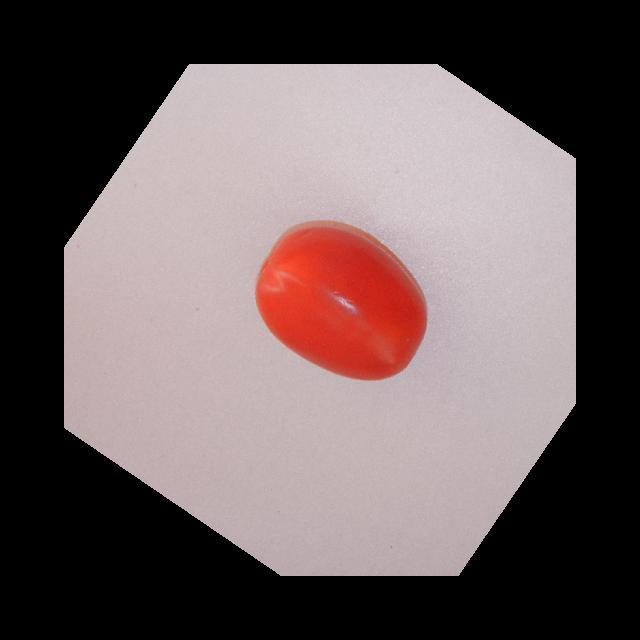tomato: (249, 212, 440, 394)
